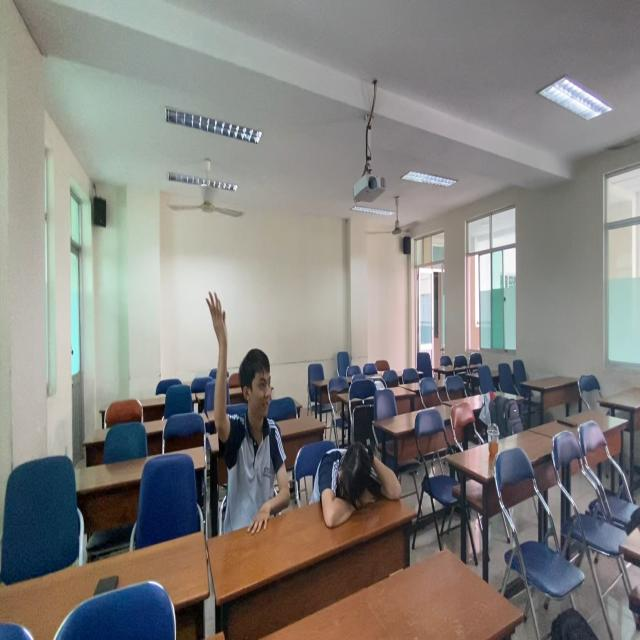raise_hand: (205, 289, 291, 547)
sleep: (311, 443, 402, 531)
